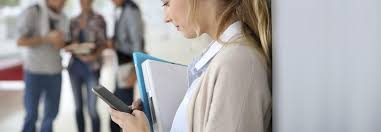Mobile-phone: (92, 82, 137, 117)
